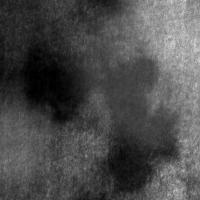patches: (74, 0, 200, 149), (99, 51, 179, 190), (0, 0, 75, 144), (21, 48, 101, 123), (0, 108, 52, 190)
